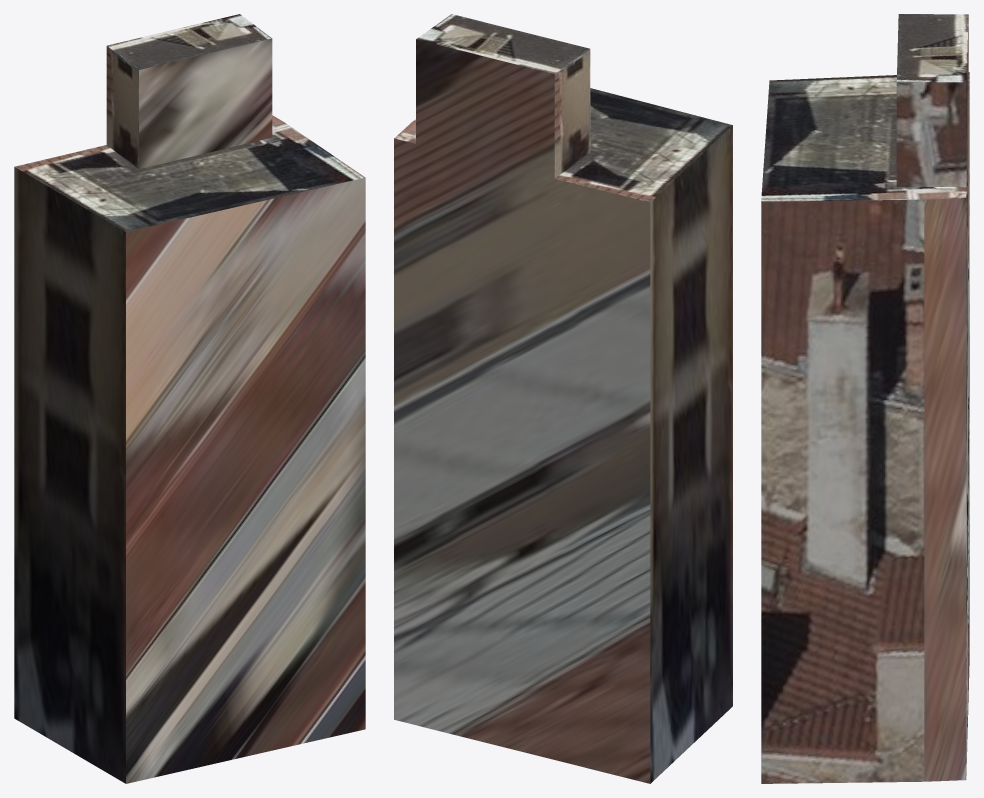
3 renders of one model, left to right at view 1: azimuth 30°, elevation 25°; view 2: azimuth 150°, elevation 25°; view 3: azimuth 270°, elevation 25°, orthographic. The views are drawn at different scales.
Visible parts, largest first — view 1: Z_UP; view 2: Z_UP; view 3: Z_UP.
Boxes of the visible parts, box(x1,y1,x2,y2) form: Z_UP: box(14, 14, 365, 783); Z_UP: box(394, 14, 732, 783); Z_UP: box(761, 14, 969, 783).
Bounding box in the file's own units: 7.99 × 19.7 × 5.42.
Materials: 2 (1 with a texture image).
